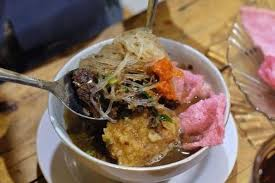soto: (54, 17, 241, 178)
